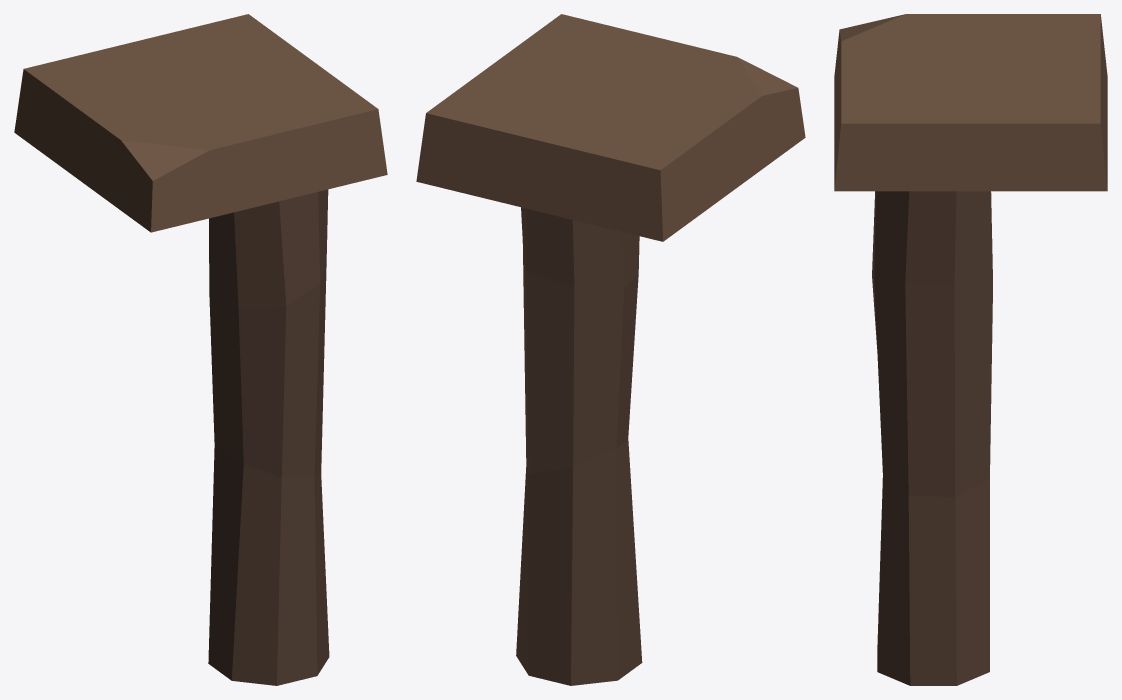
The model's file is SM_Bld_Retainer_Wall_02_Short_Corner.fbx.
3 renders of one model, left to right at view 1: azimuth 30°, elevation 25°; view 2: azimuth 150°, elevation 25°; view 3: azimuth 270°, elevation 25°, orthographic. The views are drawn at different scales.
Parts seen in each view (by area): view 1: SM_Bld_Retainer_Wall_02_Short_Corner; view 2: SM_Bld_Retainer_Wall_02_Short_Corner; view 3: SM_Bld_Retainer_Wall_02_Short_Corner.
Part boxes in pixels (left/top/right/bottom): SM_Bld_Retainer_Wall_02_Short_Corner: left=14, top=14, right=387, bottom=685; SM_Bld_Retainer_Wall_02_Short_Corner: left=416, top=14, right=805, bottom=685; SM_Bld_Retainer_Wall_02_Short_Corner: left=834, top=14, right=1107, bottom=685.
Bounding box in the file's own units: 32.35 × 74.41 × 32.35.
